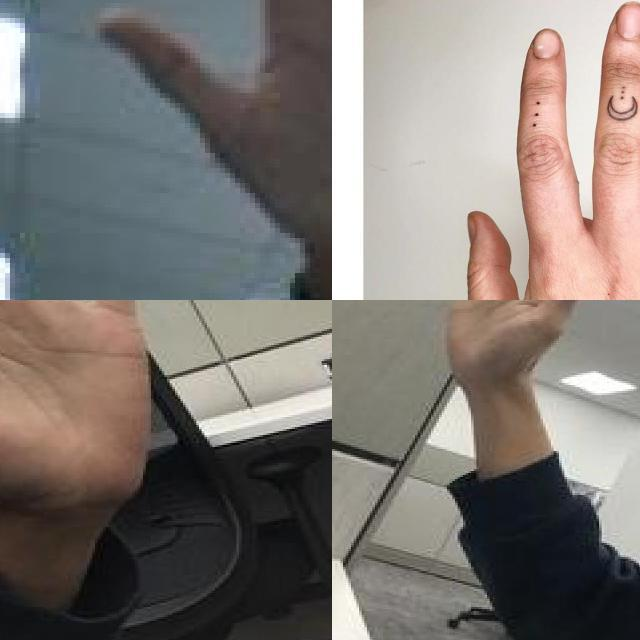hand: (100, 0, 332, 253), (466, 1, 640, 300), (0, 300, 189, 505), (441, 300, 593, 397)
